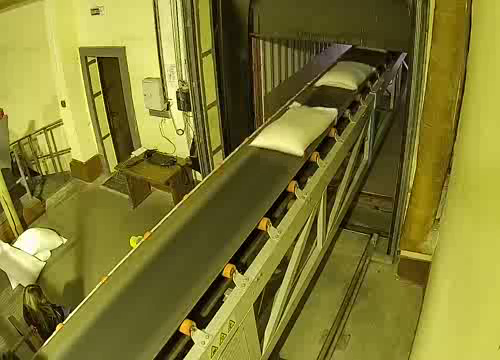bag: (248, 100, 340, 161), (312, 59, 379, 95), (354, 43, 388, 54)
